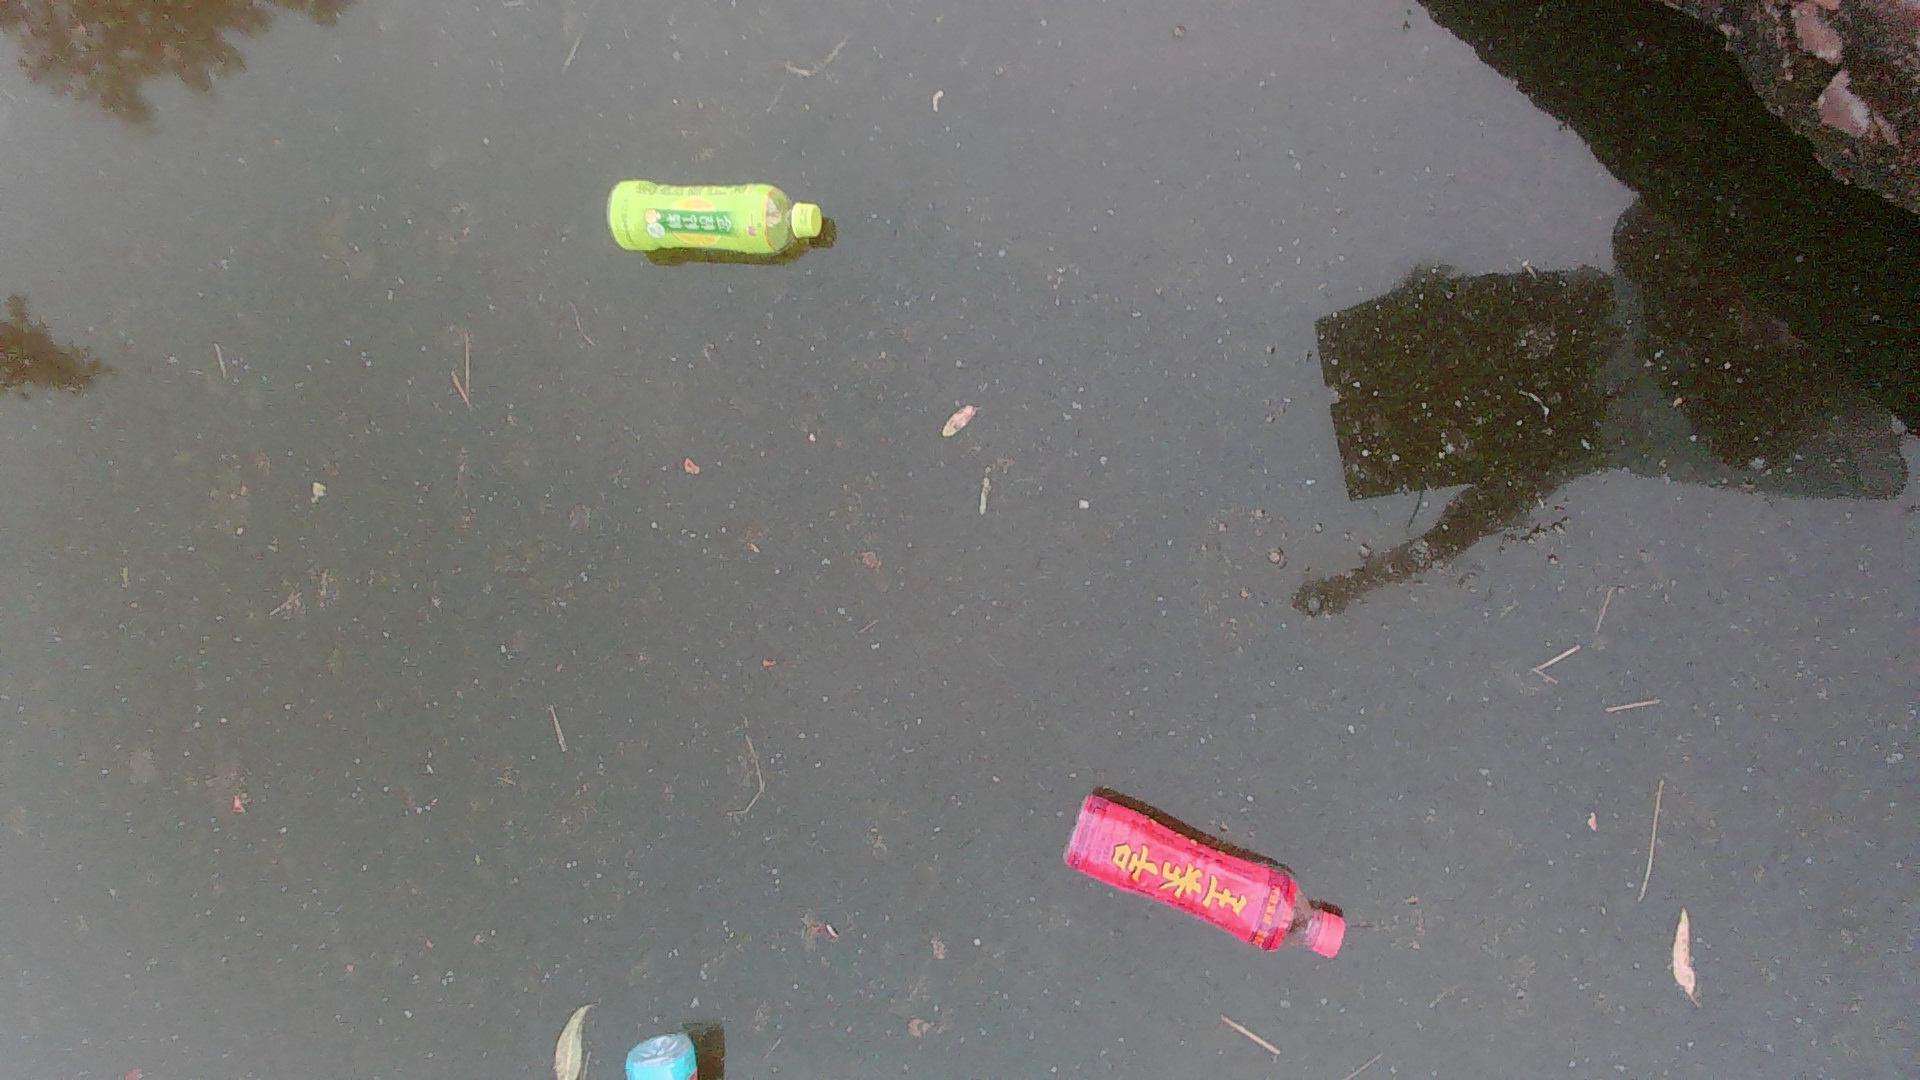Plastic: (1054, 781, 1361, 957), (600, 171, 833, 272)
